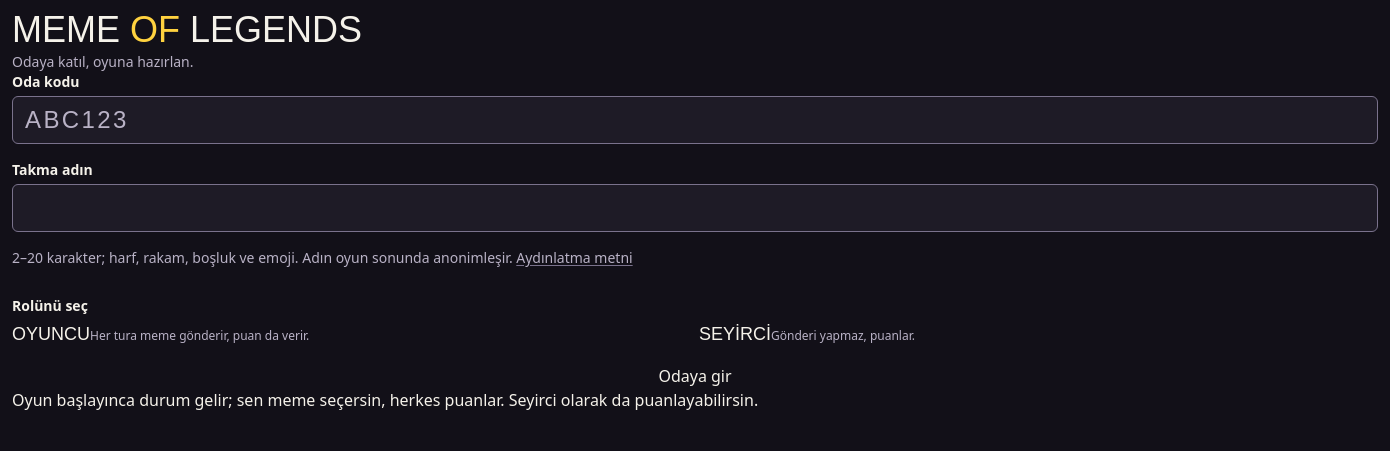
Scenario: JoinScreen › kod girişinde geçersiz kod hatası verir
Type "OPIAOT" into the field labelled "Oda kodu".
click(695, 120); type("OPIAOT")  # box [12,96,1378,144]
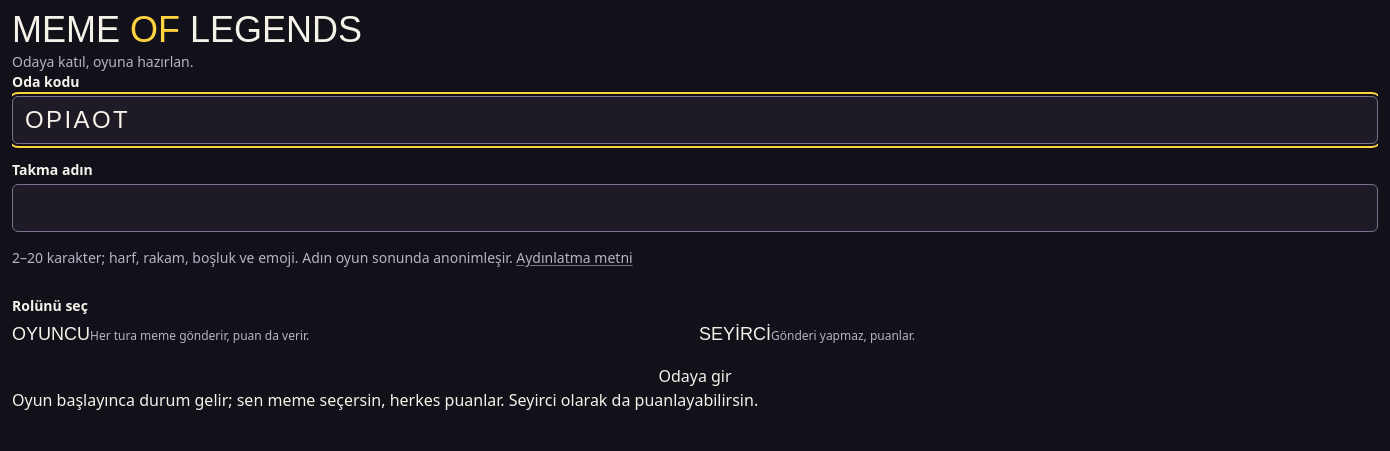
Type "Ali" into the field labelled "Takma adın".
click(695, 208); type("Ali")  # box [12,184,1378,232]
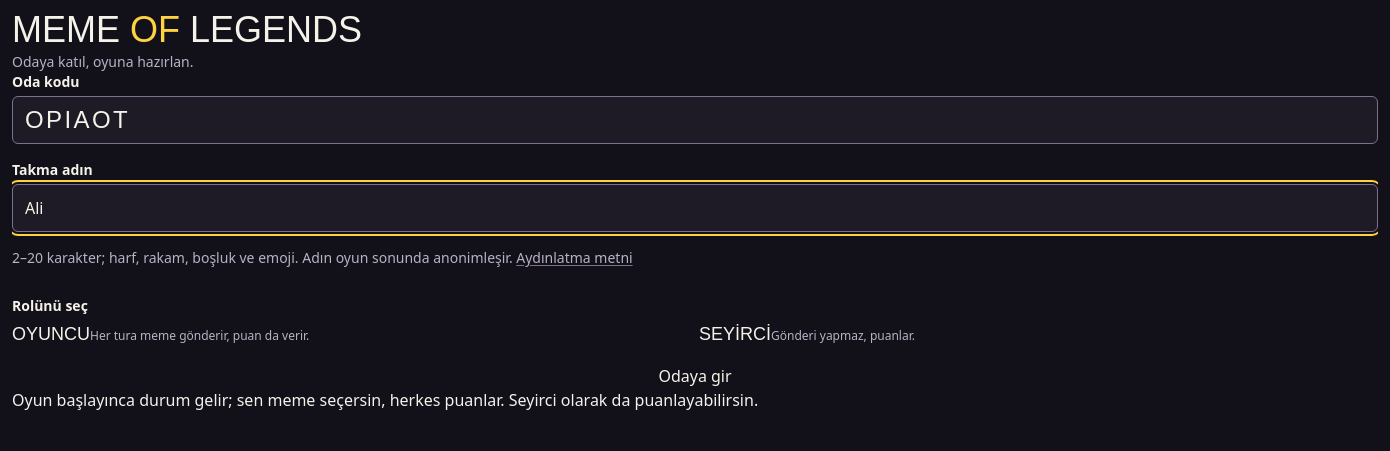
Click the button "Odaya gir".
click(695, 376)  # box [12,364,1378,388]
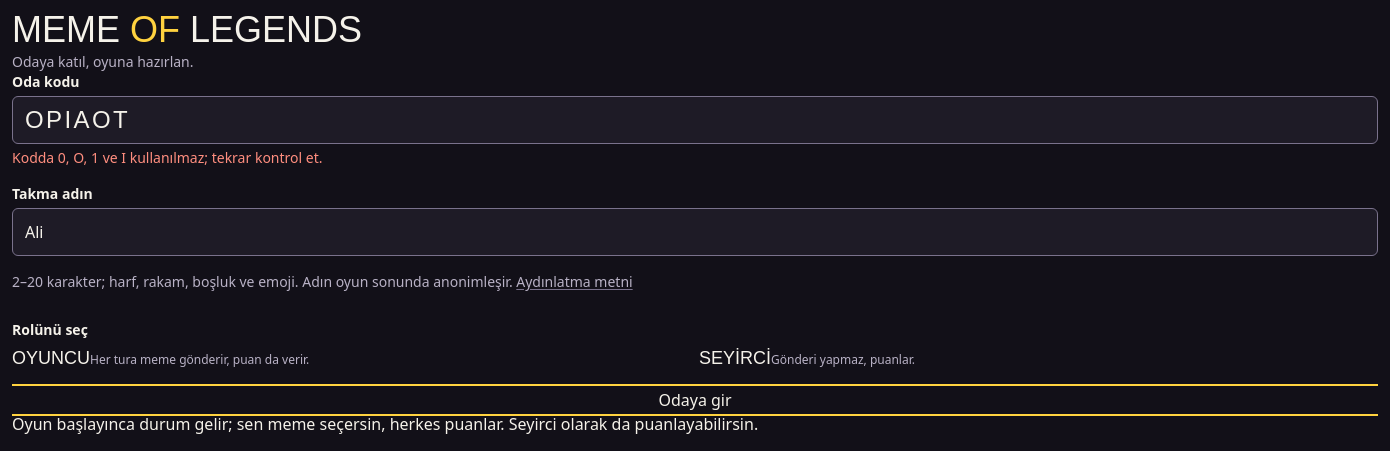
Expected: the message shows "Kodda 0, O, 1 ve I kullanılmaz", [12,148,322,167]
